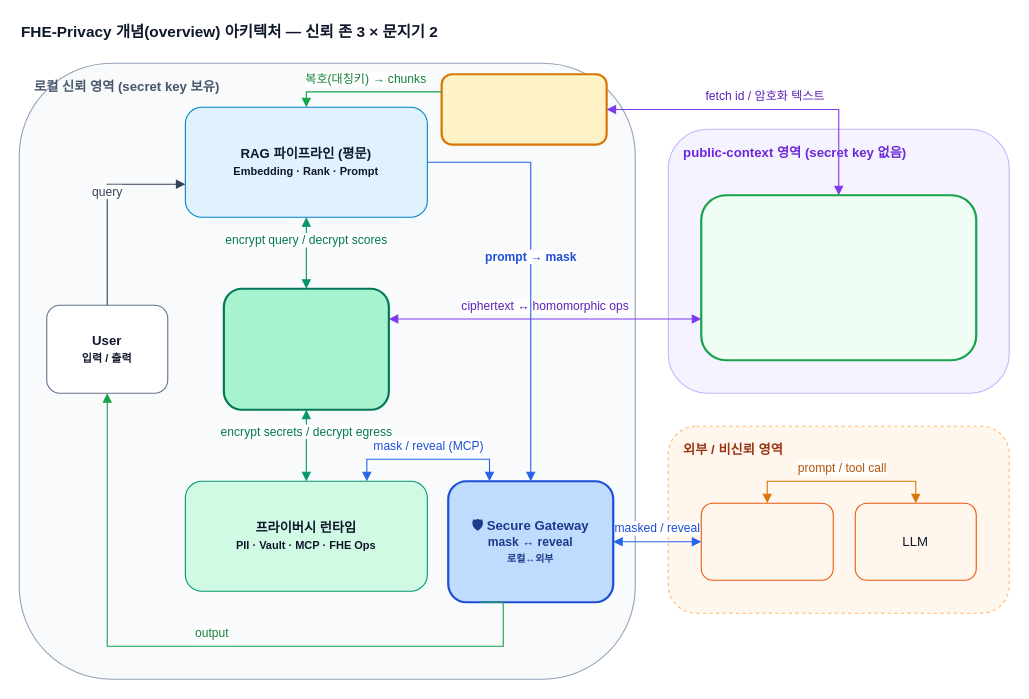
Some shapes in this 1029 by 699 pixel diagram are drawn without their labels. The shapes that lost their labels are listed below. From the top down, each one's box as (x1, y1, x2, y2) in pixels, then its label:
(440, 73, 607, 145): 🔑 Chunk Decrypt 대칭키 · 텍스트 복호
(700, 194, 977, 361): Encrypted DB + FHE Ops id → 암호화 임베딩 + 암호화 텍스트 동형 유사도 (= Encrypted Similarity)
(222, 287, 389, 410): 🔑 FHE Client encrypt ↔ decrypt 평문↔암호문 (secret key)
(700, 502, 833, 580): External Agent
